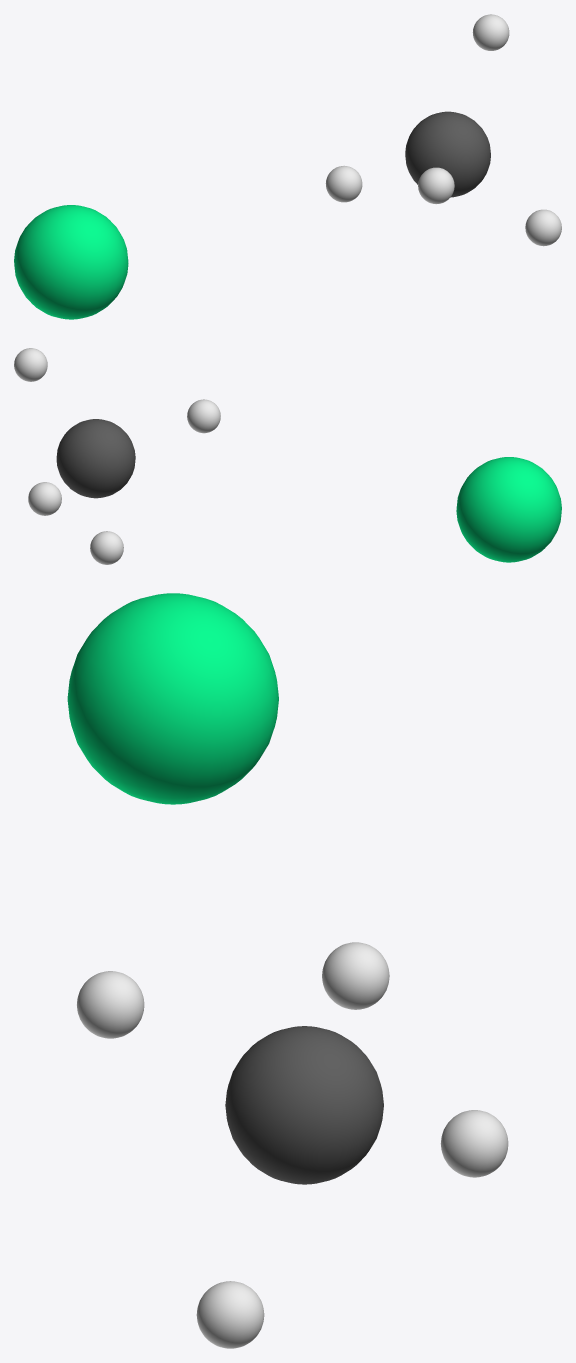
File: MethaneChlorineRadical.fbx
3 renders of one model, top to bottom at view 1: azimuth 30°, elevation 25°; view 2: azimuth 150°, elevation 25°; view 3: azimuth 270°, elevation 25°, orthographic. The views are drawn at different scales.
Parts seen in each view (by area): view 1: Cl06, C01, H03, H04, H02, H05; view 2: Cl06, C01, H04, H02, H05, H03; view 3: Cl06, C01, H02, H05, H03, H04.
Part boxes in pixels (x1,y1,x2,y2): Cl06: (14, 205, 128, 319); C01: (405, 111, 490, 197); H03: (472, 14, 509, 50); H04: (325, 165, 362, 202); H02: (525, 209, 561, 246); H05: (418, 167, 454, 204); Cl06: (456, 457, 561, 562); C01: (56, 419, 135, 498); H04: (90, 531, 123, 564); H02: (28, 482, 61, 515); H05: (187, 399, 220, 433); H03: (14, 348, 47, 381); Cl06: (67, 593, 278, 804); C01: (225, 1026, 383, 1184); H02: (196, 1281, 264, 1348); H05: (77, 971, 144, 1038); H03: (322, 942, 389, 1009); H04: (440, 1110, 508, 1177).
Size of the model in its own units: 557 by 200 by 208.
